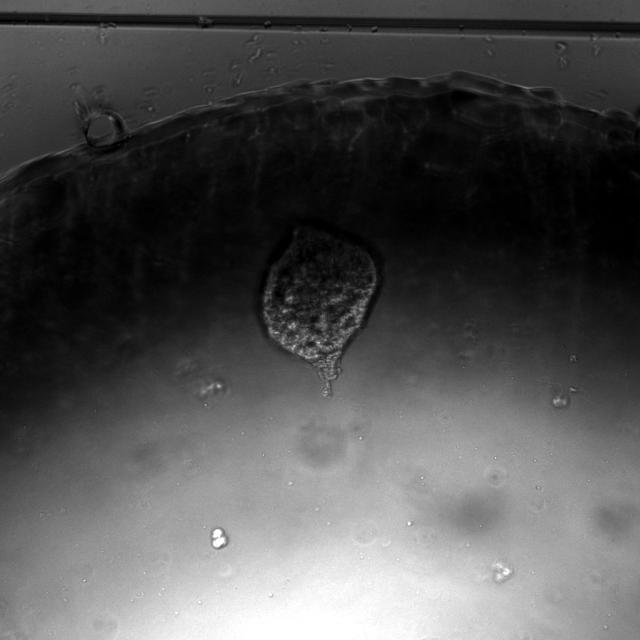organoid: (261, 227, 378, 396), (211, 527, 228, 550)
